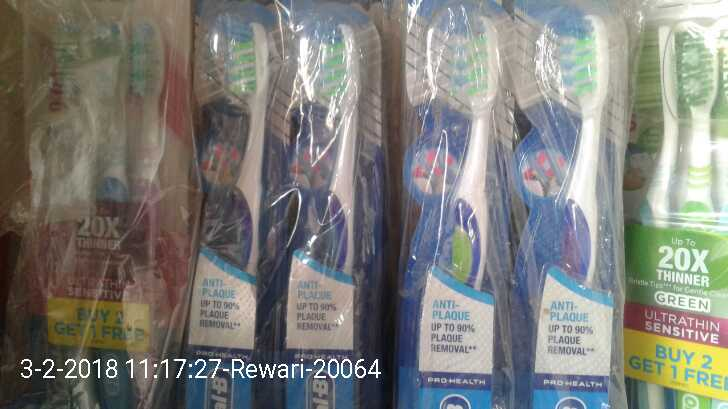oralb: (29, 3, 179, 407), (506, 18, 616, 408), (632, 7, 724, 409), (403, 46, 503, 409), (191, 22, 269, 372), (291, 12, 359, 408)
